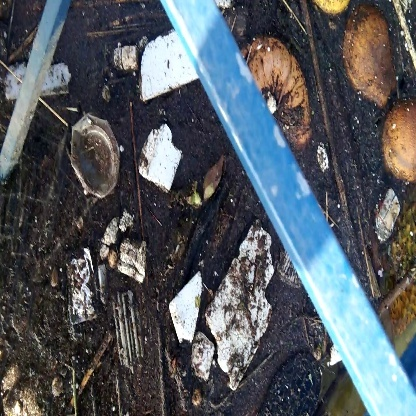plastic-garbage: (207, 222, 277, 383)
